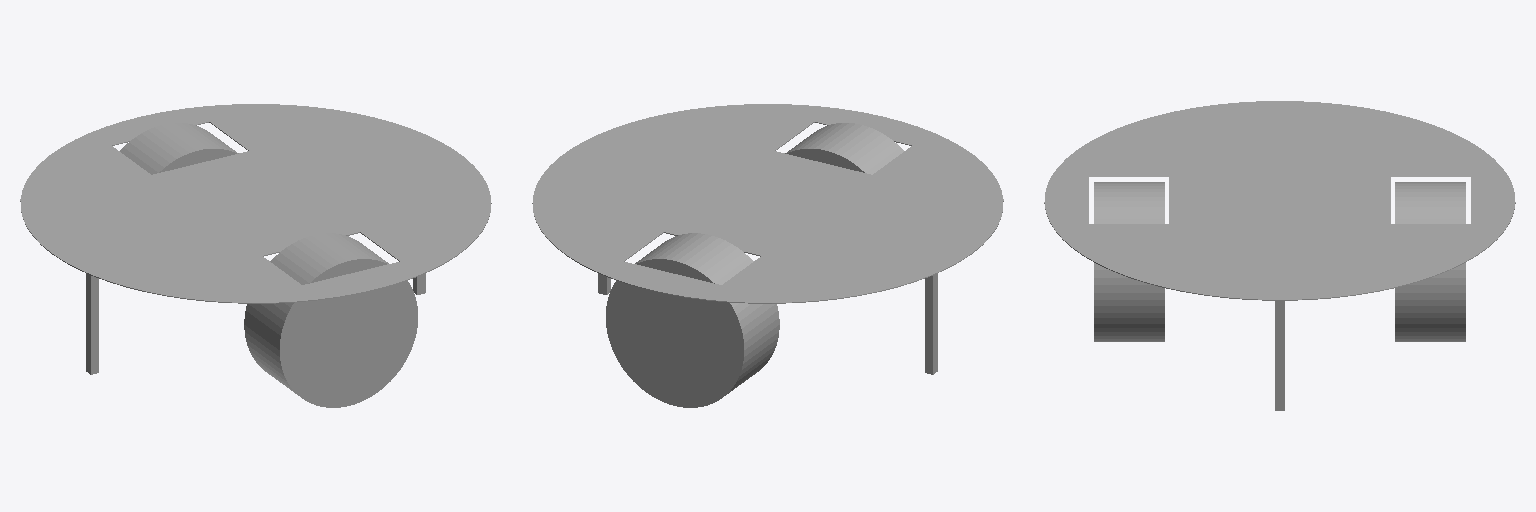
robot.urdf — haruna:
<?xml version="1.0" ?>
<robot name="haruna">

  <material name="silver">
    <color rgba="0.700 0.700 0.700 1.000"/>
  </material>

  <material name="black">
    <color rgba="0.0 0.0 0.0 1.0"/>
  </material>

  <link name="base_link">
    <inertial>
      <origin xyz="1.0338131004861055e-16 5.1690655024305274e-17 0.157" rpy="0 0 0"/>
      <mass value="1.381203895667492"/>
      <inertia ixx="0.019888" iyy="0.023891" izz="0.043779" ixy="0.0" iyz="0.0" ixz="0.0"/>
    </inertial>
    <visual>
      <origin xyz="0 0 0" rpy="0 0 0"/>
      <geometry>
        <mesh filename="package://haruna_gazebo/meshes/base_link.stl" scale="0.001 0.001 0.001"/>
      </geometry>
      <material name="silver"/>
    </visual>
    <collision>
      <origin xyz="0 0 0" rpy="0 0 0"/>
      <geometry>
        <mesh filename="package://haruna_gazebo/meshes/base_link.stl" scale="0.001 0.001 0.001"/>
      </geometry>
    </collision>
  </link>

  <link name="front_leg_link_1">
    <inertial>
      <origin xyz="0.20000000000000004 0.0 -0.23149999999999998" rpy="0 0 0"/>
      <mass value="0.0"/>
      <inertia ixx="0.0" iyy="0.0" izz="0.0" ixy="0.0" iyz="0.0" ixz="0.0"/>
    </inertial>
    <visual>
      <origin xyz="-0.0 -0.0 -0.313" rpy="0 0 0"/>
      <geometry>
        <mesh filename="package://haruna_gazebo/meshes/front_leg_link_1.stl" scale="0.001 0.001 0.001"/>
      </geometry>
      <material name="silver"/>
    </visual>
    <collision>
      <origin xyz="-0.0 -0.0 -0.313" rpy="0 0 0"/>
      <geometry>
        <mesh filename="package://haruna_gazebo/meshes/front_leg_link_1.stl" scale="0.001 0.001 0.001"/>
      </geometry>
    </collision>
  </link>

  <link name="back_leg_link_1">
    <inertial>
      <origin xyz="-0.2 0.0 -0.23149999999999998" rpy="0 0 0"/>
      <mass value="0.0"/>
      <inertia ixx="0.0" iyy="0.0" izz="0.0" ixy="0.0" iyz="0.0" ixz="0.0"/>
    </inertial>
    <visual>
      <origin xyz="-0.0 -0.0 -0.313" rpy="0 0 0"/>
      <geometry>
        <mesh filename="package://haruna_gazebo/meshes/back_leg_link_1.stl" scale="0.001 0.001 0.001"/>
      </geometry>
      <material name="silver"/>
    </visual>
    <collision>
      <origin xyz="-0.0 -0.0 -0.313" rpy="0 0 0"/>
      <geometry>
        <mesh filename="package://haruna_gazebo/meshes/back_leg_link_1.stl" scale="0.001 0.001 0.001"/>
      </geometry>
    </collision>
  </link>

  <link name="right_leg_link_1">
    <inertial>
      <origin xyz="0.0 -0.10865606936416185 -0.19859393063583816" rpy="0 0 0"/>
      <mass value="0.06790249999999999"/>
      <inertia ixx="3.8e-05" iyy="3.8e-05" izz="2e-06" ixy="-0.0" iyz="-2e-06" ixz="0.0"/>
    </inertial>
    <visual>
      <origin xyz="-0.0 -0.0 -0.313" rpy="0 0 0"/>
      <geometry>
        <mesh filename="package://haruna_gazebo/meshes/right_leg_link_1.stl" scale="0.001 0.001 0.001"/>
      </geometry>
      <material name="silver"/>
    </visual>
    <collision>
      <origin xyz="-0.0 -0.0 -0.313" rpy="0 0 0"/>
      <geometry>
        <mesh filename="package://haruna_gazebo/meshes/right_leg_link_1.stl" scale="0.001 0.001 0.001"/>
      </geometry>
    </collision>
  </link>

  <link name="left_leg_link_1">
    <inertial>
      <origin xyz="0.0 0.10865606936416185 -0.19859393063583816" rpy="0 0 0"/>
      <mass value="0.06790249999999999"/>
      <inertia ixx="3.8e-05" iyy="3.8e-05" izz="2e-06" ixy="0.0" iyz="2e-06" ixz="0.0"/>
    </inertial>
    <visual>
      <origin xyz="-0.0 -0.0 -0.313" rpy="0 0 0"/>
      <geometry>
        <mesh filename="package://haruna_gazebo/meshes/left_leg_link_1.stl" scale="0.001 0.001 0.001"/>
      </geometry>
      <material name="silver"/>
    </visual>
    <collision>
      <origin xyz="-0.0 -0.0 -0.313" rpy="0 0 0"/>
      <geometry>
        <mesh filename="package://haruna_gazebo/meshes/left_leg_link_1.stl" scale="0.001 0.001 0.001"/>
      </geometry>
    </collision>
  </link>

  <link name="left_wheel_link_1">
    <inertial>
      <origin xyz="-1.0685163737249417e-17 0.037500000000000006 0.0" rpy="0 0 0"/>
      <mass value="13.363451575437157"/>
      <inertia ixx="0.030402" iyy="0.048275" izz="0.030402" ixy="-0.0" iyz="0.0" ixz="-0.0"/>
    </inertial>
    <visual>
      <origin xyz="-0.0 -0.1225 -0.085" rpy="0 0 0"/>
      <geometry>
        <mesh filename="package://haruna_gazebo/meshes/left_wheel_link_1.stl" scale="0.001 0.001 0.001"/>
      </geometry>
      <material name="silver"/>
    </visual>
    <collision>
      <origin xyz="-0.0 -0.1225 -0.085" rpy="0 0 0"/>
      <geometry>
        <mesh filename="package://haruna_gazebo/meshes/left_wheel_link_1.stl" scale="0.001 0.001 0.001"/>
      </geometry>
    </collision>
  </link>

  <link name="right_wheel_link_1">
    <inertial>
      <origin xyz="-1.0685163737249417e-17 -0.037500000000000006 0.0" rpy="0 0 0"/>
      <mass value="13.363451575437157"/>
      <inertia ixx="0.030402" iyy="0.048275" izz="0.030402" ixy="-0.0" iyz="-0.0" ixz="-0.0"/>
    </inertial>
    <visual>
      <origin xyz="-0.0 0.1225 -0.085" rpy="0 0 0"/>
      <geometry>
        <mesh filename="package://haruna_gazebo/meshes/right_wheel_link_1.stl" scale="0.001 0.001 0.001"/>
      </geometry>
      <material name="silver"/>
    </visual>
    <collision>
      <origin xyz="-0.0 0.1225 -0.085" rpy="0 0 0"/>
      <geometry>
        <mesh filename="package://haruna_gazebo/meshes/right_wheel_link_1.stl" scale="0.001 0.001 0.001"/>
      </geometry>
    </collision>
  </link>

  <joint name="base_to_front_leg_joint" type="fixed">
    <origin xyz="0.0 0.0 0.313" rpy="0 0 0"/>
    <parent link="base_link"/>
    <child link="front_leg_link_1"/>
  </joint>

  <joint name="base_to_back_leg_joint" type="fixed">
    <origin xyz="0.0 0.0 0.313" rpy="0 0 0"/>
    <parent link="base_link"/>
    <child link="back_leg_link_1"/>
  </joint>

  <joint name="base_to_right_leg_joint" type="fixed">
    <origin xyz="0.0 0.0 0.313" rpy="0 0 0"/>
    <parent link="base_link"/>
    <child link="right_leg_link_1"/>
  </joint>

  <joint name="base_to_left_leg_joint" type="fixed">
    <origin xyz="0.0 0.0 0.313" rpy="0 0 0"/>
    <parent link="base_link"/>
    <child link="left_leg_link_1"/>
  </joint>

  <joint name="left_leg_to_left_wheel_joint" type="continuous">
    <origin xyz="0.0 0.1225 -0.228" rpy="0 0 0"/>
    <parent link="left_leg_link_1"/>
    <child link="left_wheel_link_1"/>
    <axis xyz="0.0 1.0 0.0"/>
  </joint>

  <joint name="right_leg_to_right_wheel_joint" type="continuous">
    <origin xyz="0.0 -0.1225 -0.228" rpy="0 0 0"/>
    <parent link="right_leg_link_1"/>
    <child link="right_wheel_link_1"/>
    <axis xyz="0.0 1.0 0.0"/>
  </joint>

  <!-- ===============  Transmission =============== -->

  <transmission name="left_leg_to_left_wheel_joint_tran">
    <type>transmission_interface/SimpleTransmission</type>
    <joint name="left_leg_to_left_wheel_joint">
      <hardwareInterface>hardware_interface/EffortJointInterface</hardwareInterface>
    </joint>
    <actuator name="left_leg_to_left_wheel_joint_actr">
      <hardwareInterface>hardware_interface/EffortJointInterface</hardwareInterface>
      <mechanicalReduction>1</mechanicalReduction>
    </actuator>
  </transmission>

  <transmission name="right_leg_to_right_wheel_joint_tran">
    <type>transmission_interface/SimpleTransmission</type>
    <joint name="right_leg_to_right_wheel_joint">
      <hardwareInterface>hardware_interface/EffortJointInterface</hardwareInterface>
    </joint>
    <actuator name="right_leg_to_right_wheel_joint_actr">
      <hardwareInterface>hardware_interface/EffortJointInterface</hardwareInterface>
      <mechanicalReduction>1</mechanicalReduction>
    </actuator>
  </transmission>

  <!-- =============== Gazebo =============== -->

  <gazebo>
    <plugin name="differential_drive_controller" filename="libgazebo_ros_diff_drive.so">
      <leftJoint>left_leg_to_left_wheel_joint</leftJoint>
      <rightJoint>right_leg_to_right_wheel_joint</rightJoint>
      <robotBaseFrame>base_link</robotBaseFrame>
      <wheelSeparation>0.36</wheelSeparation>
      <wheelDiameter>0.17</wheelDiameter>
      <updateRate>1</updateRate>
      <publishWheelJointState>true</publishWheelJointState>
    </plugin>
  </gazebo>

  <gazebo reference="base_link">
  <mu1>0.2</mu1>
  <mu2>0.2</mu2>
  <selfCollide>true</selfCollide>
  <gravity>true</gravity>
</gazebo>

<gazebo reference="front_leg_link_1">
  <mu1>0.0</mu1>
  <mu2>0.0</mu2>
  <selfCollide>true</selfCollide>
</gazebo>

<gazebo reference="back_leg_link_1">
  <mu1>0.0</mu1>
  <mu2>0.0</mu2>
  <selfCollide>true</selfCollide>
</gazebo>

<gazebo reference="right_leg_link_1">
  <mu1>0.2</mu1>
  <mu2>0.2</mu2>
  <selfCollide>true</selfCollide>
</gazebo>

<gazebo reference="left_leg_link_1">
  <mu1>0.2</mu1>
  <mu2>0.2</mu2>
  <selfCollide>true</selfCollide>
</gazebo>

<gazebo reference="left_wheel_link_1">
  <mu1>0.2</mu1>
  <mu2>0.2</mu2>
  <selfCollide>true</selfCollide>
</gazebo>

<gazebo reference="right_wheel_link_1">
  <mu1>0.2</mu1>
  <mu2>0.2</mu2>
  <selfCollide>true</selfCollide>
</gazebo>

</robot>

--- What the picture shows (computed from the rendered views, not written in the file) ---
Views: 3 orthographic renders of the robot side by side, from view 1: azimuth 30°, elevation 25°; view 2: azimuth 150°, elevation 25°; view 3: azimuth 270°, elevation 25°.
Model haruna with 7 links and 6 joints (2 continuous, 4 fixed), rooted at base_link, posed every joint at zero.
Visible links, largest first — view 1: base_link, right_wheel_link_1, left_wheel_link_1, back_leg_link_1; view 2: base_link, left_wheel_link_1, right_wheel_link_1, back_leg_link_1; view 3: base_link, left_wheel_link_1, right_wheel_link_1, front_leg_link_1.
Link boxes in pixels (box(x1,y1,x2,y2)): base_link: box(20, 104, 491, 303); right_wheel_link_1: box(244, 233, 417, 407); left_wheel_link_1: box(120, 123, 238, 174); back_leg_link_1: box(86, 273, 98, 374); base_link: box(532, 104, 1003, 303); left_wheel_link_1: box(606, 233, 779, 407); right_wheel_link_1: box(785, 123, 903, 174); back_leg_link_1: box(925, 273, 937, 374); base_link: box(1044, 101, 1515, 300); left_wheel_link_1: box(1395, 182, 1465, 341); right_wheel_link_1: box(1094, 182, 1164, 341); front_leg_link_1: box(1275, 301, 1284, 410).
Bounding box of the posed robot: 0.4997 × 0.4999 × 0.17 m (x, y, z).
Meshes: 7 distinct files referenced, 7 mesh visuals loaded (7 binary STL).
